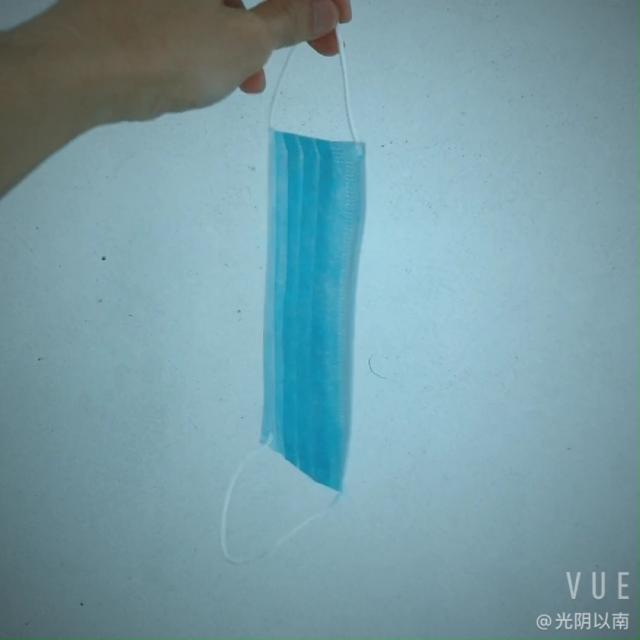non-organic waste: (238, 124, 390, 501)
